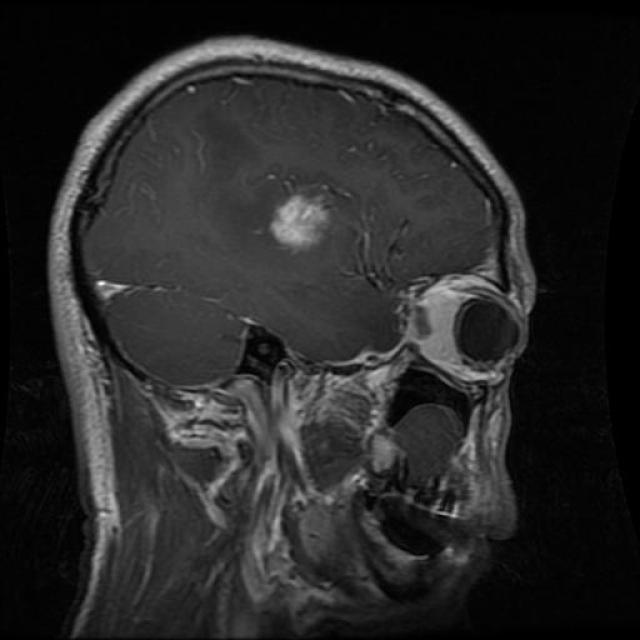glioma: (267, 195, 335, 256)
